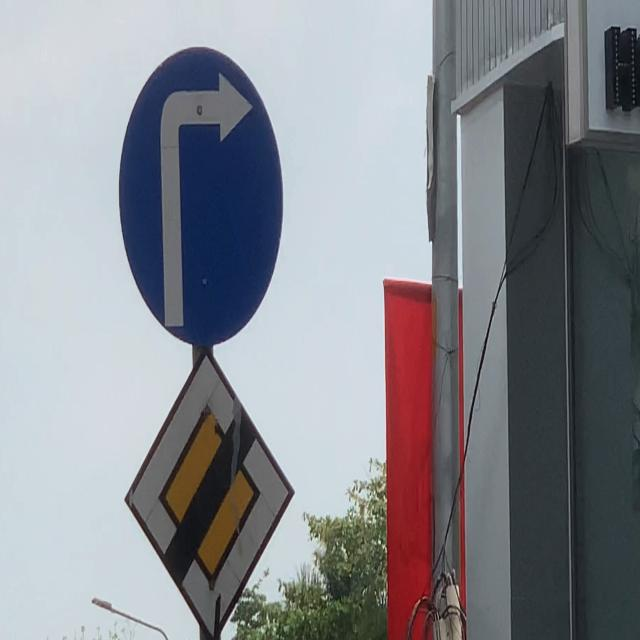Re phai: (119, 45, 284, 348)
